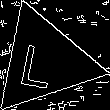L_N: (23, 33, 65, 89)
